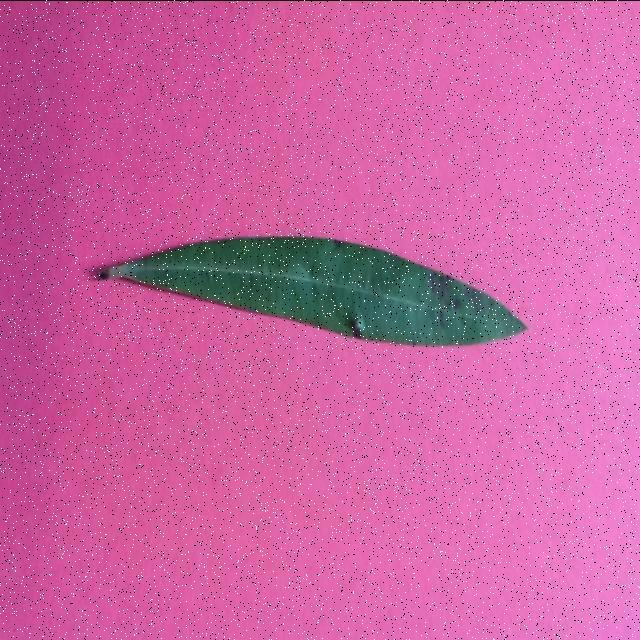foliage: (86, 228, 532, 354)
